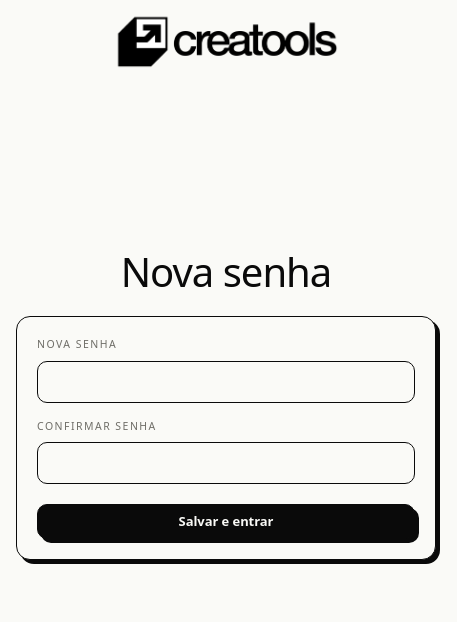
Test: /redefinir-senha › falha ao gravar NÃO manda a pessoa para o app achando que trocou
Expected: the form with test id "redefinir-form" is shown, x1=16 y1=316 x2=436 y2=560
Step 1. Type "senha-boa-123" into the password field with test id "nova-senha" → {"x": 226, "y": 382}, box x1=37 y1=361 x2=415 y2=402
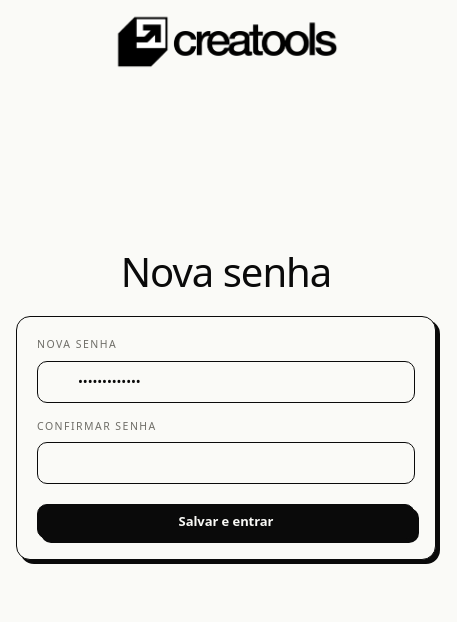
Step 2. Type "senha-boa-123" into the password field with test id "nova-senha-confirmacao" → {"x": 226, "y": 463}, box x1=37 y1=442 x2=415 y2=484
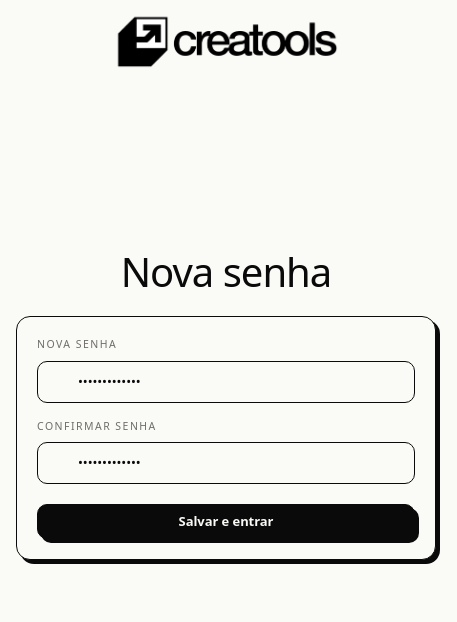
Step 3. Submit the form with test id "redefinir-form", box x1=16 y1=316 x2=436 y2=560
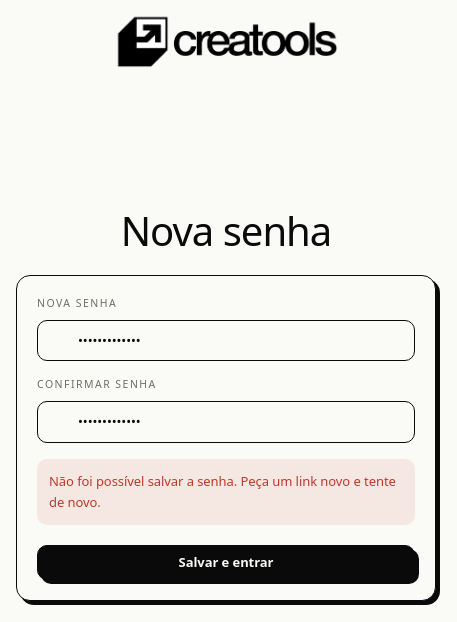
Expected: the message "Não foi possível salvar a senha. Peça um link novo e tente de novo." is shown, x1=37 y1=459 x2=415 y2=525
